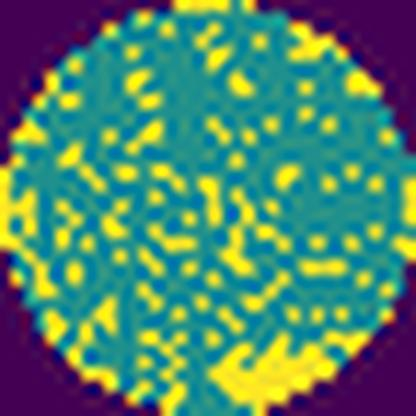Edge-Loc: (203, 329, 374, 415)
